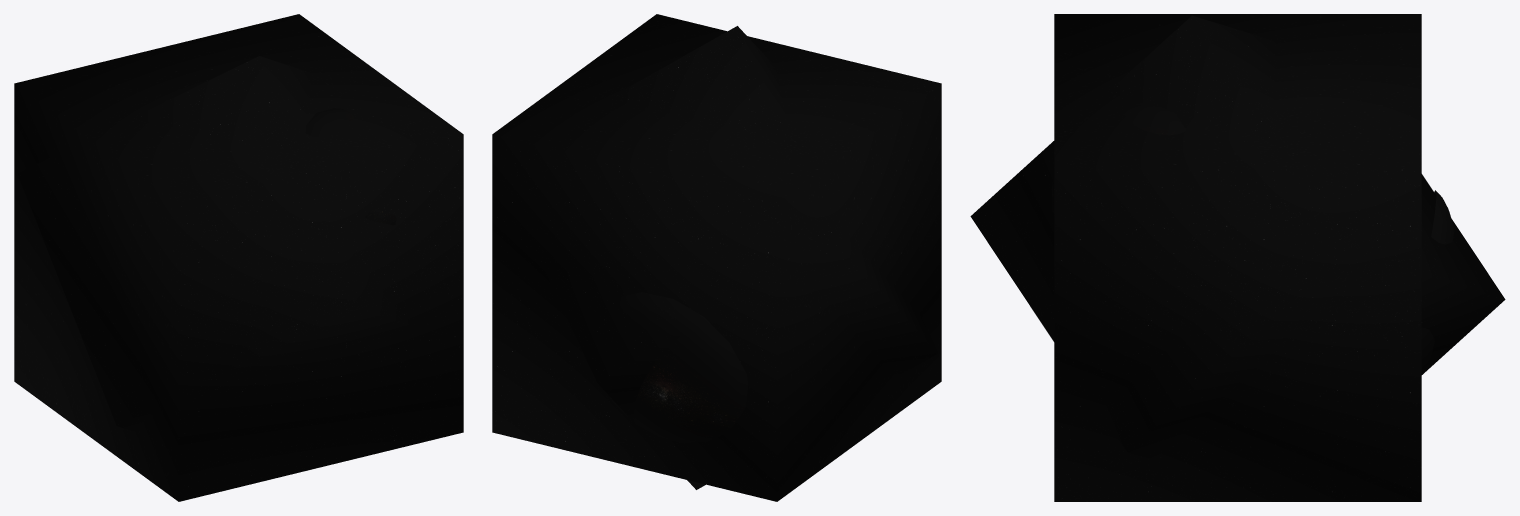
Rendered from Middle_Nebula.dae.
3 views of the same model, side by side, from view 1: azimuth 30°, elevation 25°; view 2: azimuth 150°, elevation 25°; view 3: azimuth 270°, elevation 25° (orthographic). The views are drawn at different scales.
Visible parts, largest first — view 1: SpaceCubeinside, SpaceCubeinside2, myriade1; view 2: SpaceCubeinside, SpaceCubeinside2, myriade; view 3: SpaceCubeinside, SpaceCubeinside2, myriade1, myriade.
Part boxes in pixels (bbox=[...]): SpaceCubeinside: bbox=[14, 14, 463, 501]; SpaceCubeinside2: bbox=[17, 56, 412, 431]; myriade1: bbox=[305, 108, 396, 225]; SpaceCubeinside: bbox=[492, 14, 941, 501]; SpaceCubeinside2: bbox=[543, 26, 938, 489]; myriade: bbox=[611, 292, 747, 442]; SpaceCubeinside: bbox=[1054, 14, 1421, 501]; SpaceCubeinside2: bbox=[970, 15, 1505, 460]; myriade1: bbox=[1052, 104, 1186, 213]; myriade: bbox=[1421, 190, 1454, 373].
Bounding box in the file's own units: 27.21 × 32.84 × 32.84.
Materials: 6 (6 with a texture image).
